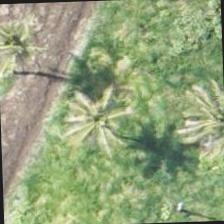Kelapa_Sawit: (50, 80, 143, 173), (0, 2, 63, 92)
